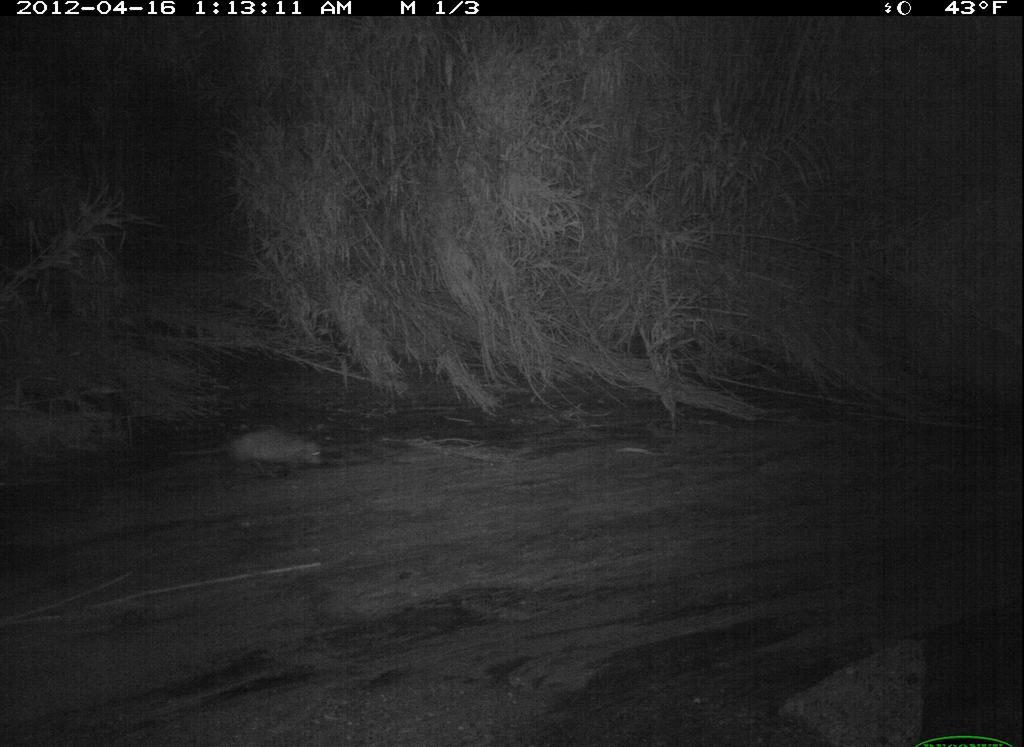opossum: (164, 417, 338, 488)
